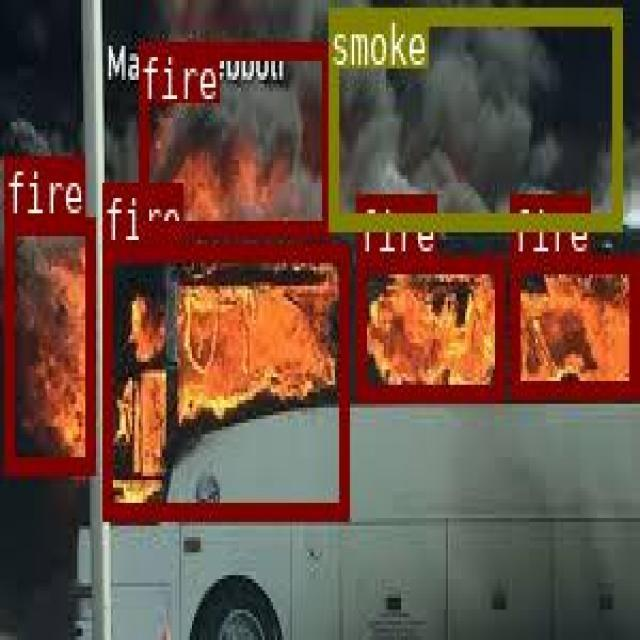fire: (102, 242, 346, 518), (137, 40, 329, 234), (4, 215, 94, 469), (355, 254, 504, 399), (508, 254, 636, 393)
smoke: (328, 5, 620, 228)
